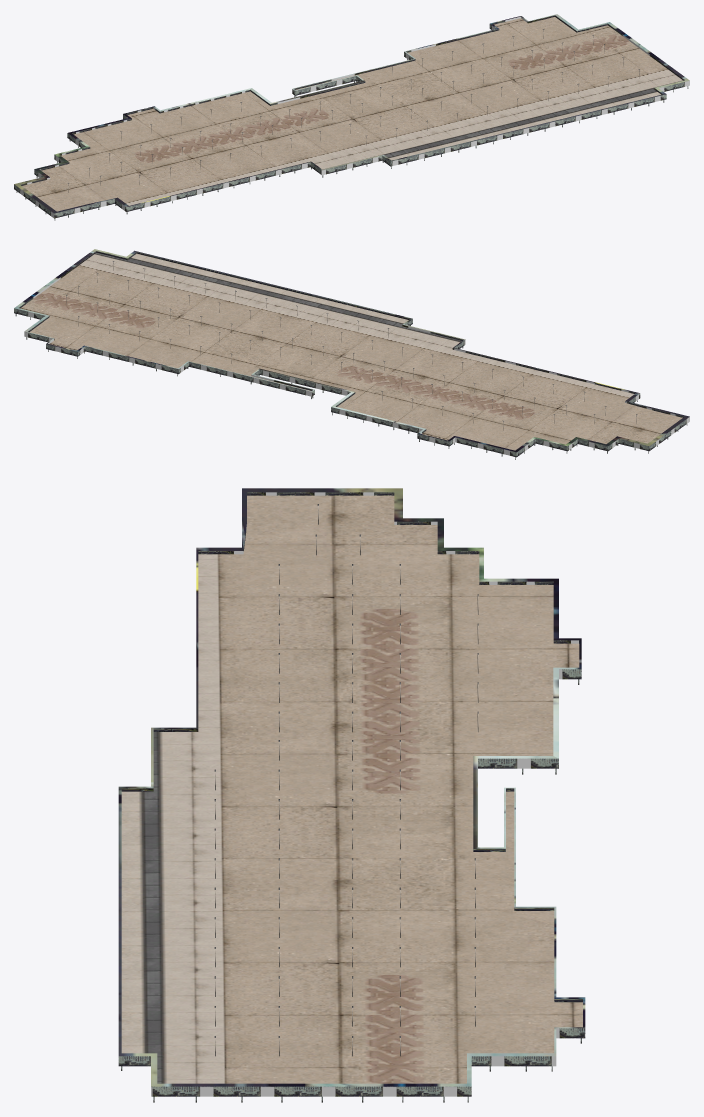
The model's file is Garage4.exact.glb.
3 renders of one model, top to bottom at view 1: azimuth 30°, elevation 25°; view 2: azimuth 150°, elevation 25°; view 3: azimuth 270°, elevation 25°, orthographic. The views are drawn at different scales.
Parts seen in each view (by area): view 1: Garage4; view 2: Garage4; view 3: Garage4.
Part boxes in pixels (<box>): Garage4: <box>14,14,689,220</box>; Garage4: <box>14,249,689,459</box>; Garage4: <box>118,488,585,1102</box>.
Size of the model in its own units: 384 by 9.87 by 127.
Materials: 1 (1 with a texture image).
